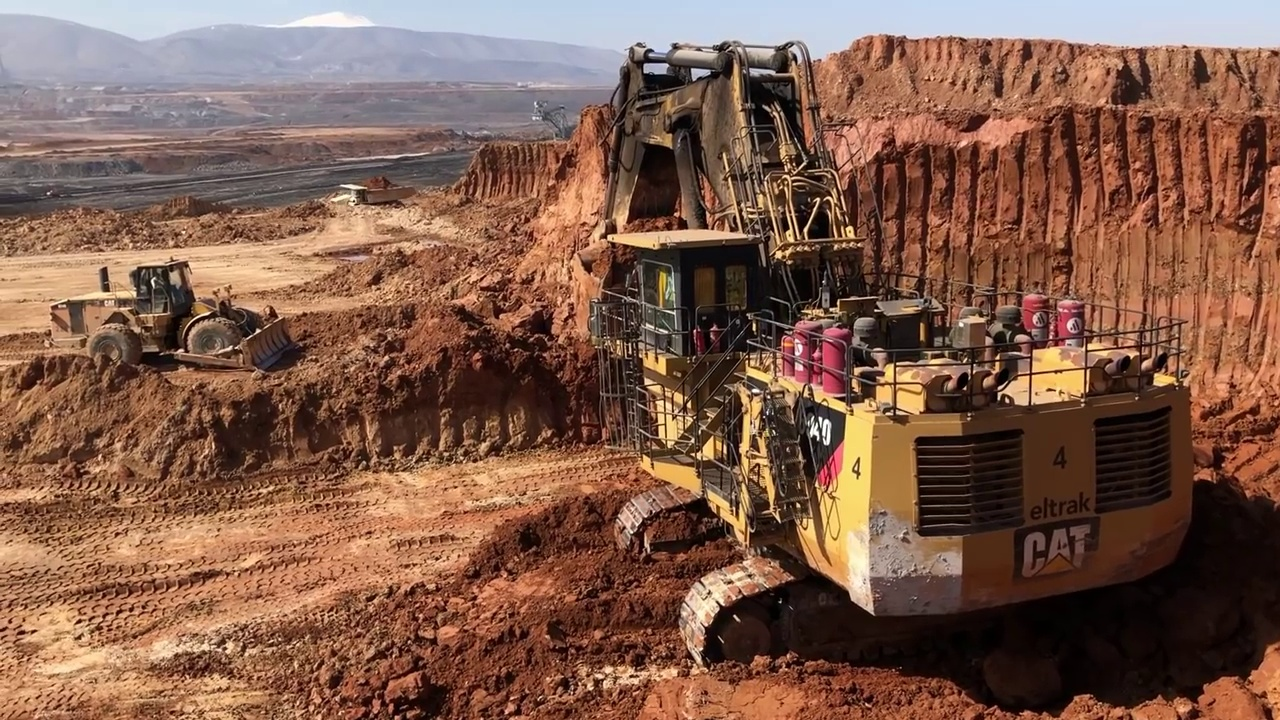bulldozer: (48, 257, 295, 382)
excavator: (597, 37, 1191, 675)
